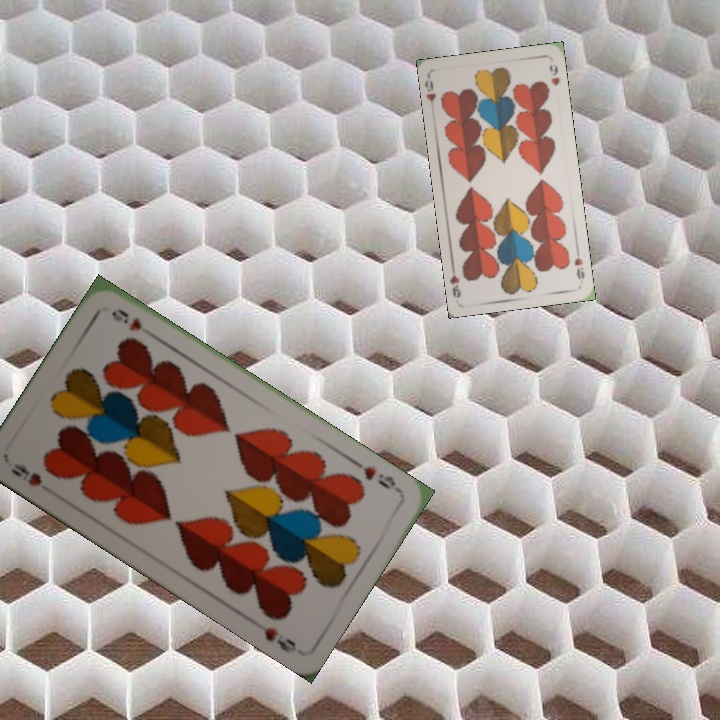H9: (359, 462, 404, 496), (7, 459, 45, 489), (570, 244, 587, 282), (422, 78, 438, 104)
